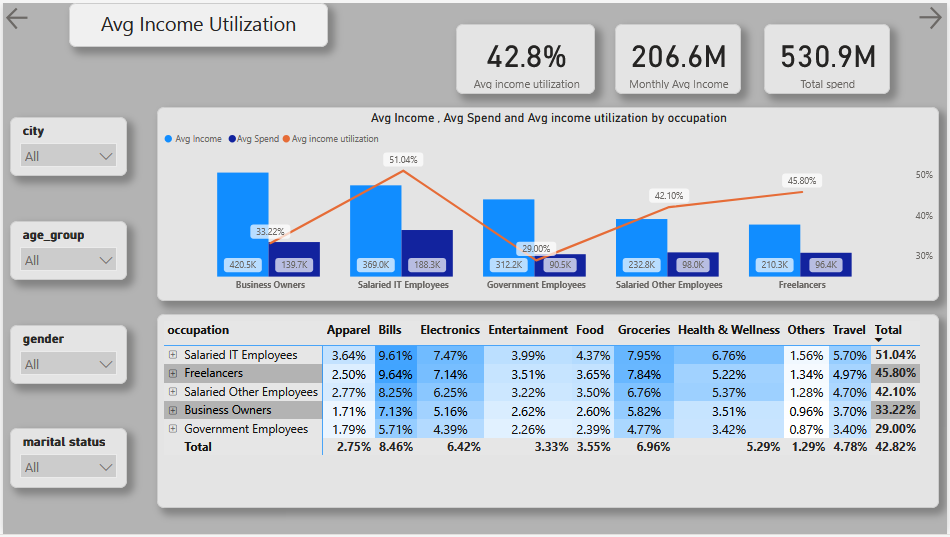

This screenshot's page, from the dashboard's own definition file:
{"tool":"powerbi","page":{"name":"AIU%_2","canvas":[1280,720],"ordinal":5},"visuals":[{"type":"card","fields":{"Values":["Sum(dim_customers.avg_income)"]},"box":[829.3,28.1,170.2,95.3],"z":0},{"type":"slicer","fields":{"Values":["dim_customers.marital status"]},"box":[9.9,576.9,158.7,80.8],"z":3000},{"type":"slicer","fields":{"Values":["dim_customers.city"]},"box":[9.9,154.5,158.7,79.4],"z":4000},{"type":"slicer","fields":{"Values":["dim_customers.gender"]},"box":[9.9,436.1,158.7,79.4],"z":5000},{"type":"slicer","fields":{"Values":["dim_customers.age_group"]},"box":[9.9,295.3,158.7,79.4],"z":6000},{"type":"pivotTable","fields":{"Rows":["dim_customers.occupation","dim_customers.age_group","dim_customers.gender"],"Values":["fact_spends.Avg income utilization"],"Columns":["fact_spends.category"]},"box":[209.3,421.7,1060.5,262.4],"z":7000},{"type":"lineClusteredColumnComboChart","fields":{"Category":["dim_customers.occupation"],"Y2":["fact_spends.Avg income utilization"],"Y":["dim_customers.AI_1","fact_spends.AS_1"]},"box":[209.3,140.6,1060.5,262.4],"z":8000},{"type":"card","fields":{"Values":["Sum(fact_spends.spend)"]},"box":[1032.4,28.1,170.2,95.3],"z":9000},{"type":"textbox","box":[89,0,351,60],"z":10000},{"type":"card","fields":{"Values":["fact_spends.Avg income utilization"]},"box":[613.8,28.1,189,95.3],"z":11000},{"type":"actionButton","box":[1237,0,43.7,40.6],"z":12000},{"type":"actionButton","box":[0,0,39,40.6],"z":13000}]}

Visuals, with their boxes in screenshot pixels (x1, y1, x2, y2), scaled from the page's 1280x720 canvas onto the 950x537 screenshot:
card - Sum(dim_customers.avg_income): bbox=(615, 21, 742, 92)
slicer - dim_customers.marital status: bbox=(7, 430, 125, 491)
slicer - dim_customers.city: bbox=(7, 115, 125, 174)
slicer - dim_customers.gender: bbox=(7, 325, 125, 384)
slicer - dim_customers.age_group: bbox=(7, 220, 125, 279)
pivotTable - dim_customers.occupation x dim_customers.age_group: bbox=(155, 315, 942, 510)
lineClusteredColumnComboChart - dim_customers.occupation x fact_spends.Avg income utilization: bbox=(155, 105, 942, 301)
card - Sum(fact_spends.spend): bbox=(766, 21, 893, 92)
textbox: bbox=(66, 0, 327, 45)
card - fact_spends.Avg income utilization: bbox=(456, 21, 596, 92)
actionButton: bbox=(918, 0, 949, 30)
actionButton: bbox=(0, 0, 29, 30)
